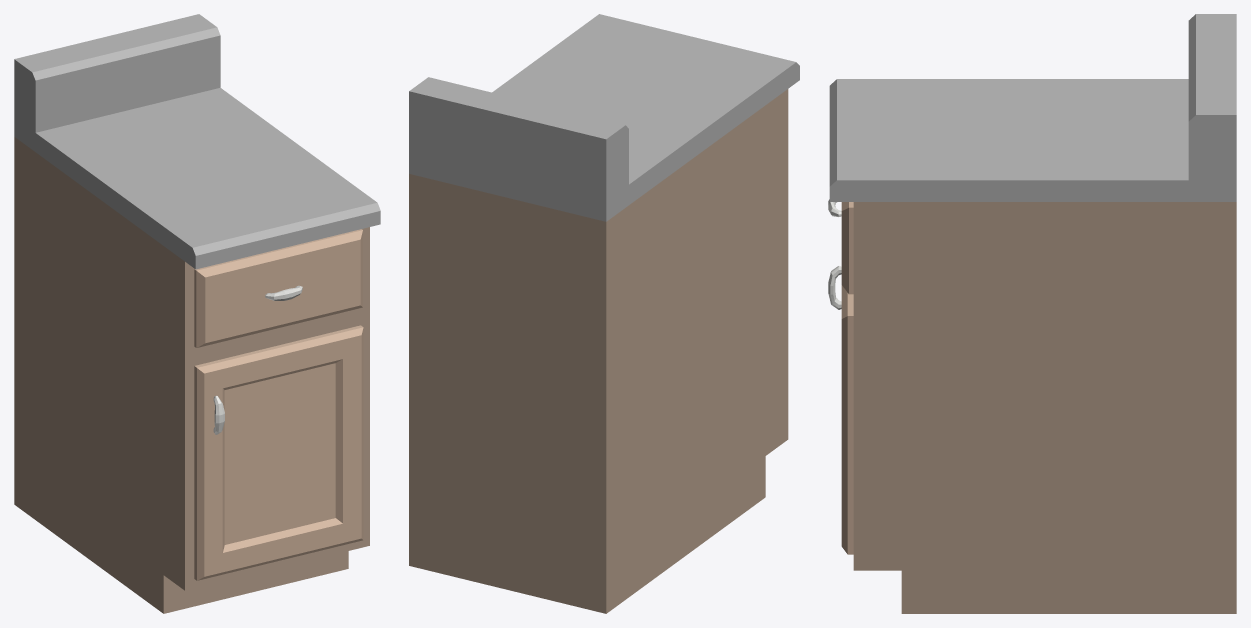
The model's file is Structure_Kitchen_Cabinet_Base_Half.fbx.
3 renders of one model, left to right at view 1: azimuth 30°, elevation 25°; view 2: azimuth 150°, elevation 25°; view 3: azimuth 270°, elevation 25°, orthographic. The views are drawn at different scales.
Parts seen in each view (by area): view 1: object2.048, object5.020, object1.086, object3.037; view 2: object2.048, object5.020; view 3: object2.048, object5.020, object1.086, object3.037.
Boxes of the visible parts, x1,y1,x2,y2 form: object2.048: [14, 137, 369, 613]; object5.020: [14, 14, 380, 269]; object1.086: [194, 325, 363, 580]; object3.037: [194, 229, 362, 347]; object2.048: [409, 89, 788, 613]; object5.020: [409, 14, 799, 221]; object2.048: [853, 202, 1236, 613]; object5.020: [829, 14, 1236, 201]; object1.086: [841, 285, 853, 554]; object3.037: [828, 199, 853, 294].
Bounding box in the file's own units: 50 × 115 × 85.31.
